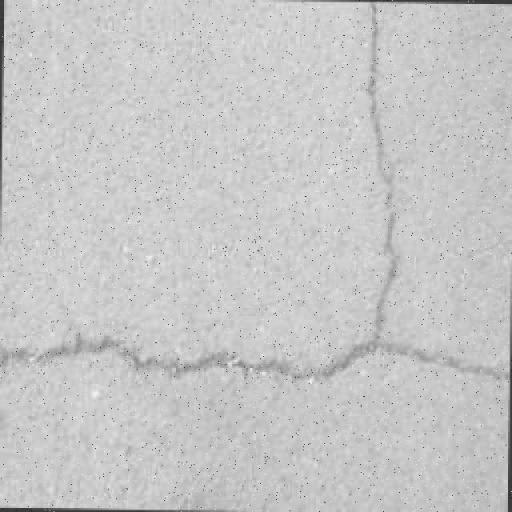minor crack: (9, 17, 159, 499), (124, 346, 166, 371)
moderate crack: (182, 0, 360, 336), (9, 335, 507, 383), (21, 335, 108, 364)
severe crack: (350, 0, 392, 376), (278, 355, 350, 382), (374, 208, 397, 263), (367, 5, 380, 100), (0, 345, 18, 369), (368, 92, 380, 124), (374, 129, 386, 153)
